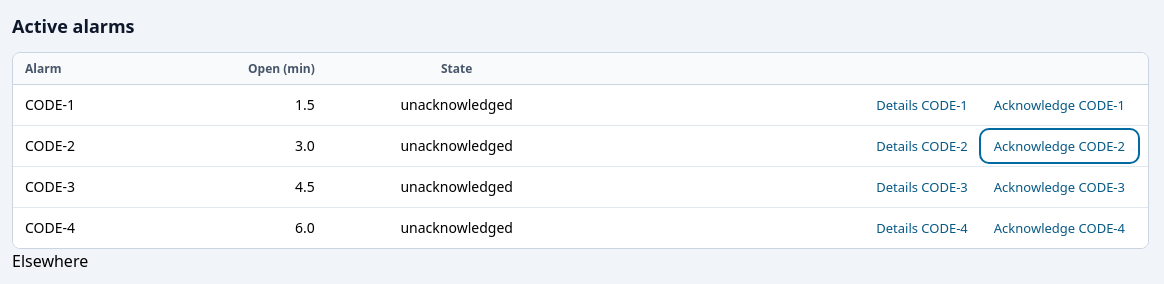
DataTable row actions and focus › moves the focus to the same action in the next row when the row disappears
Click the button with test id "ack-a2": click(1059, 146) [983, 132, 1136, 160]
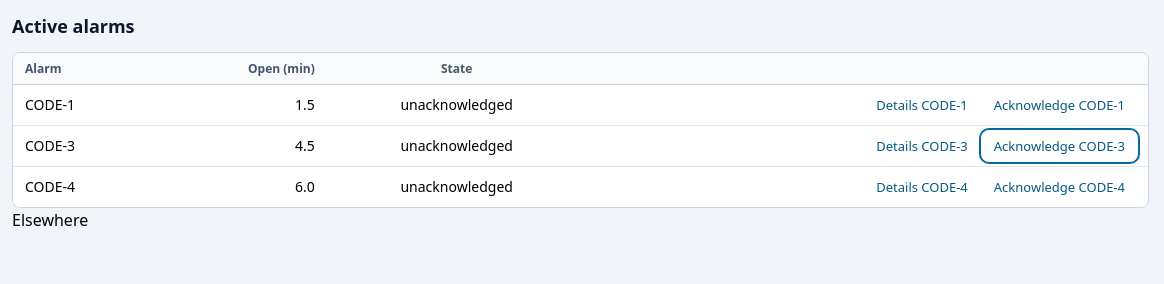
Now the row with test id "alarm-row-a2" is gone
